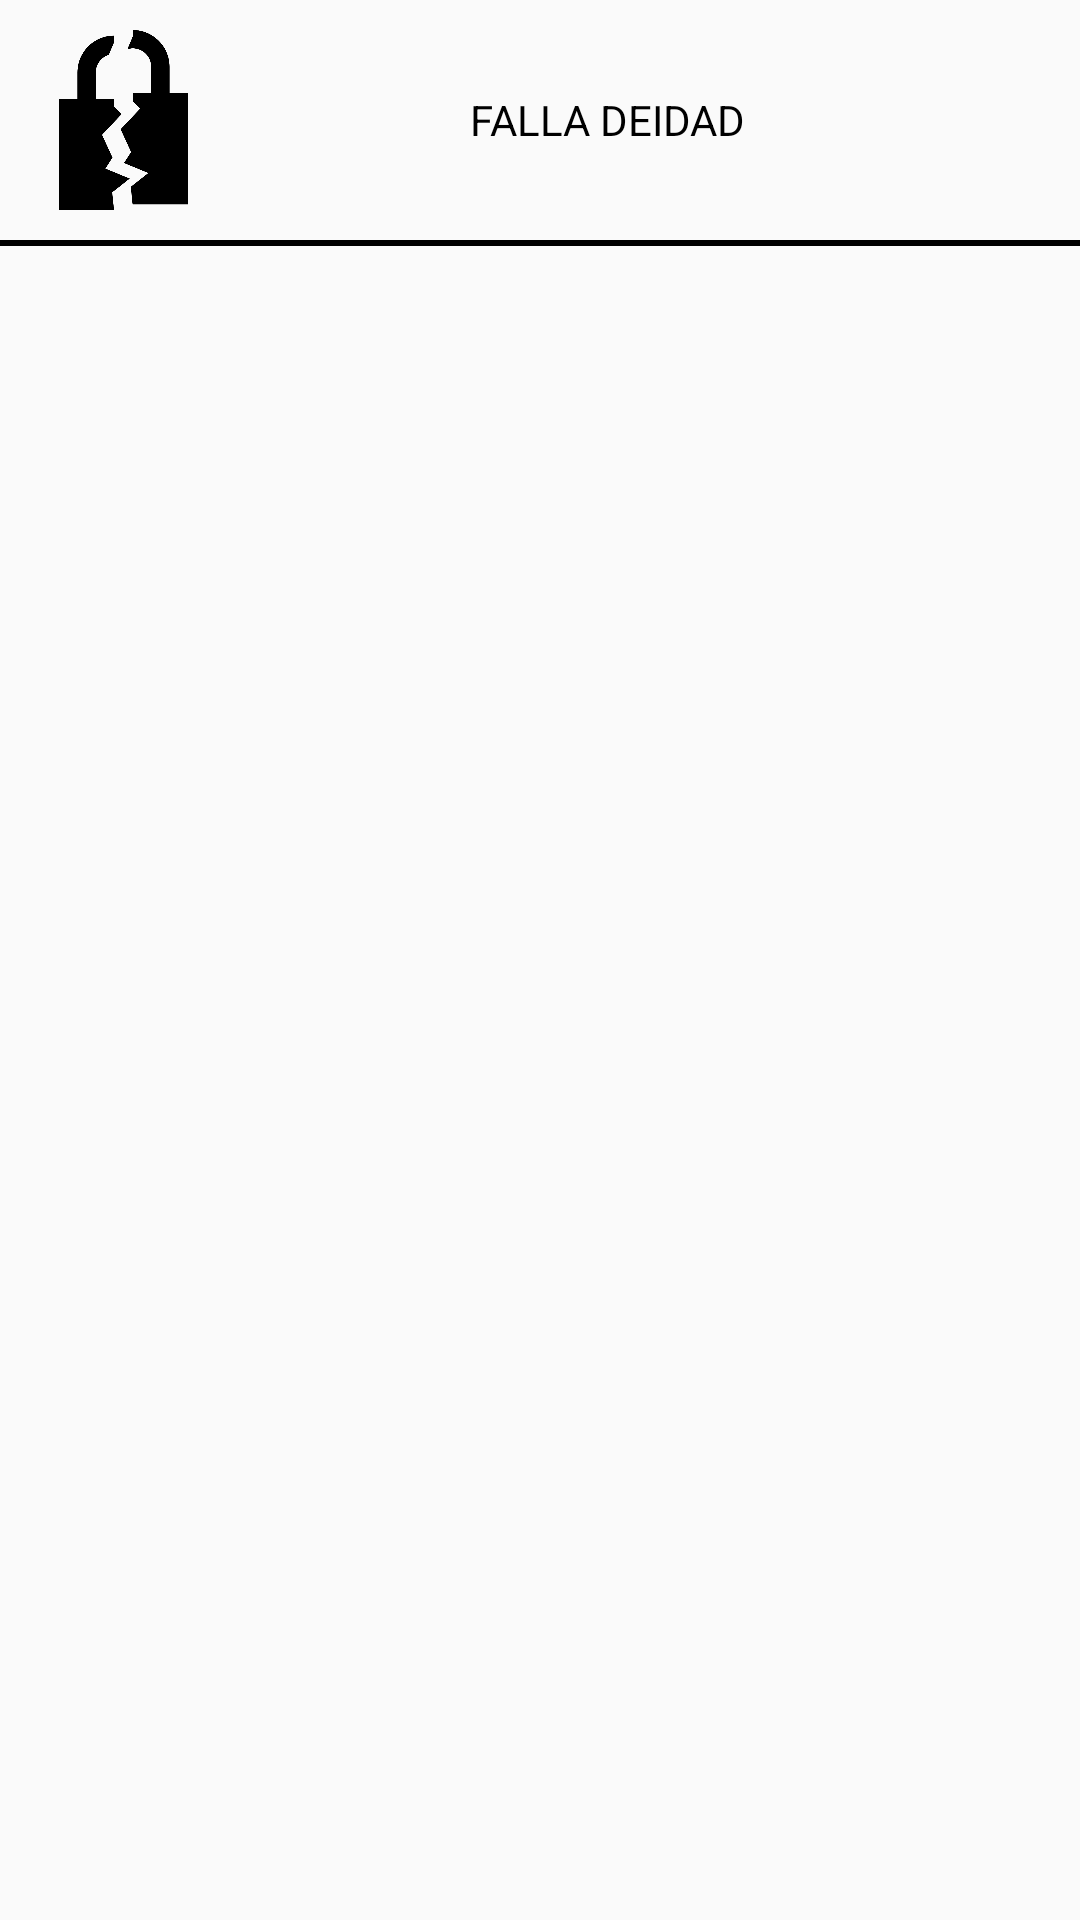

Screen size 1080x1920. Icon name, then its center in pixels as point (x, y):
candado: point (123, 120)
